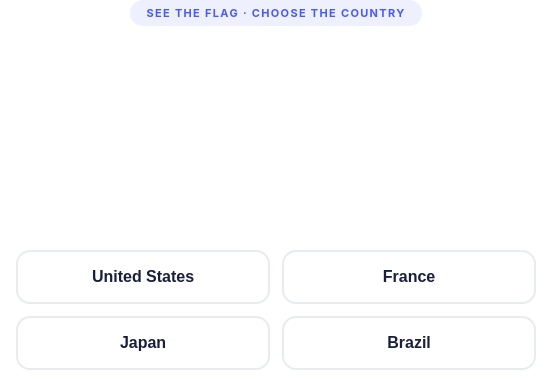
NameItQuestion › User Interaction › disables all buttons after user makes a choice
Click the list item with class "option-btn" showing "United States".
click(143, 277)  # box x1=16 y1=250 x2=270 y2=304
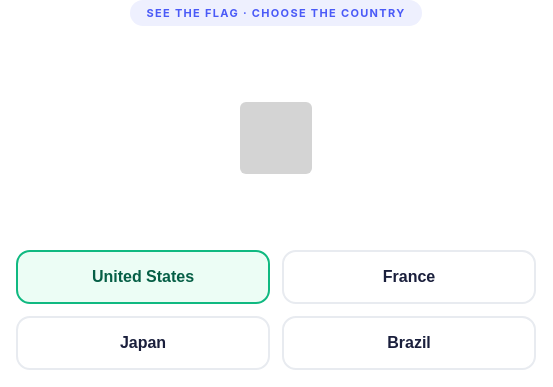
Expected: the list item with class "option-btn" showing "France" is disabled, x1=282 y1=250 x2=536 y2=304
Result: the list item with class "option-btn" showing "United States" is disabled at x1=16 y1=250 x2=270 y2=304
